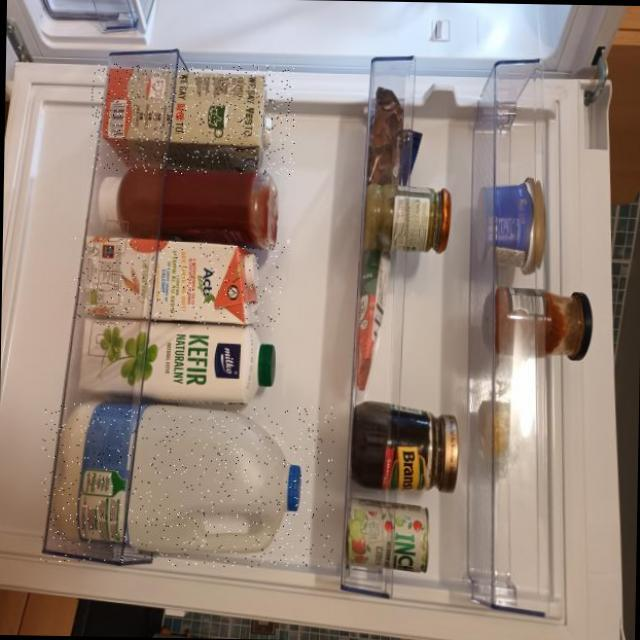milk: (39, 401, 334, 568), (89, 62, 295, 176), (71, 238, 283, 330)
